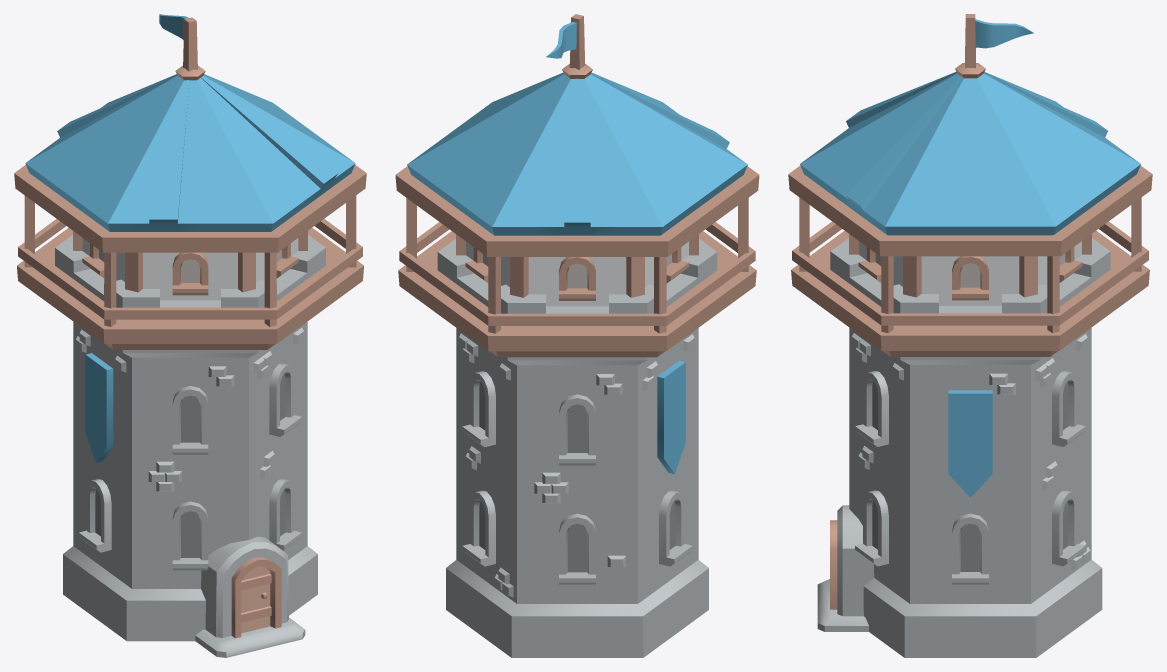
The model's file is tower_B_part.glb.
3 views of the same model, side by side, from view 1: azimuth 30°, elevation 25°; view 2: azimuth 150°, elevation 25°; view 3: azimuth 270°, elevation 25° (orthographic). The views are drawn at different scales.
Visible parts, largest first — view 1: X_building_tower_B_blue, X_building_tower_B_top_blue; view 2: X_building_tower_B_blue, X_building_tower_B_top_blue; view 3: X_building_tower_B_blue, X_building_tower_B_top_blue.
Part boxes in pixels (x1,y1,x2,y2): X_building_tower_B_blue: (55,235,325,657); X_building_tower_B_top_blue: (14,14,366,349); X_building_tower_B_blue: (437,238,717,657); X_building_tower_B_top_blue: (395,14,759,357); X_building_tower_B_blue: (817,238,1110,657); X_building_tower_B_top_blue: (788,14,1152,356).
Size of the model in its own units: 1.2 by 2.49 by 1.38.
